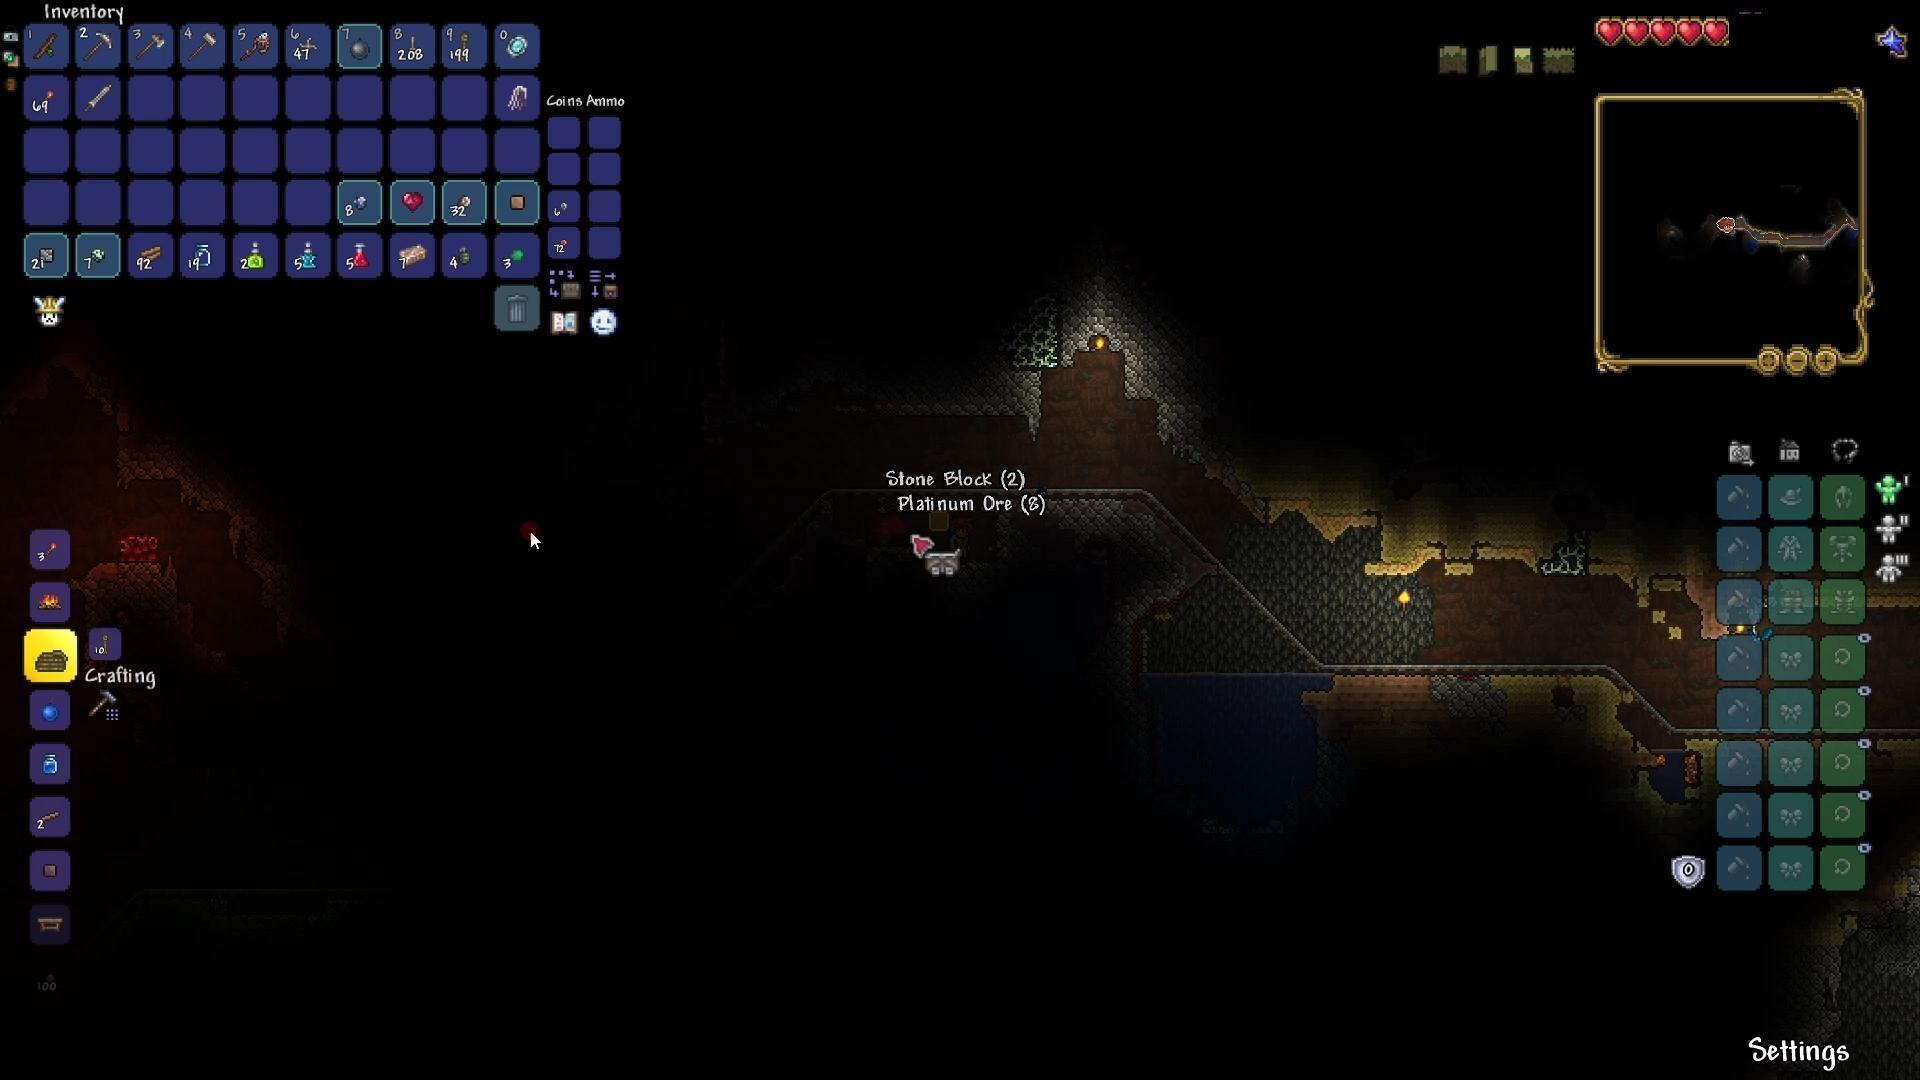heart: (1702, 17, 1733, 51), (1593, 16, 1626, 46), (1676, 15, 1704, 50), (1650, 16, 1676, 49), (1625, 15, 1651, 44)
liquid: (1137, 655, 1309, 694)
sand: (1262, 492, 1383, 538), (1362, 538, 1482, 582), (1489, 667, 1611, 694), (1466, 535, 1542, 574), (1582, 542, 1634, 592)
stone: (1062, 266, 1143, 360), (1124, 377, 1221, 455), (897, 368, 1054, 415), (1035, 495, 1147, 558), (1112, 542, 1187, 630), (112, 555, 196, 611), (1419, 662, 1484, 733)
